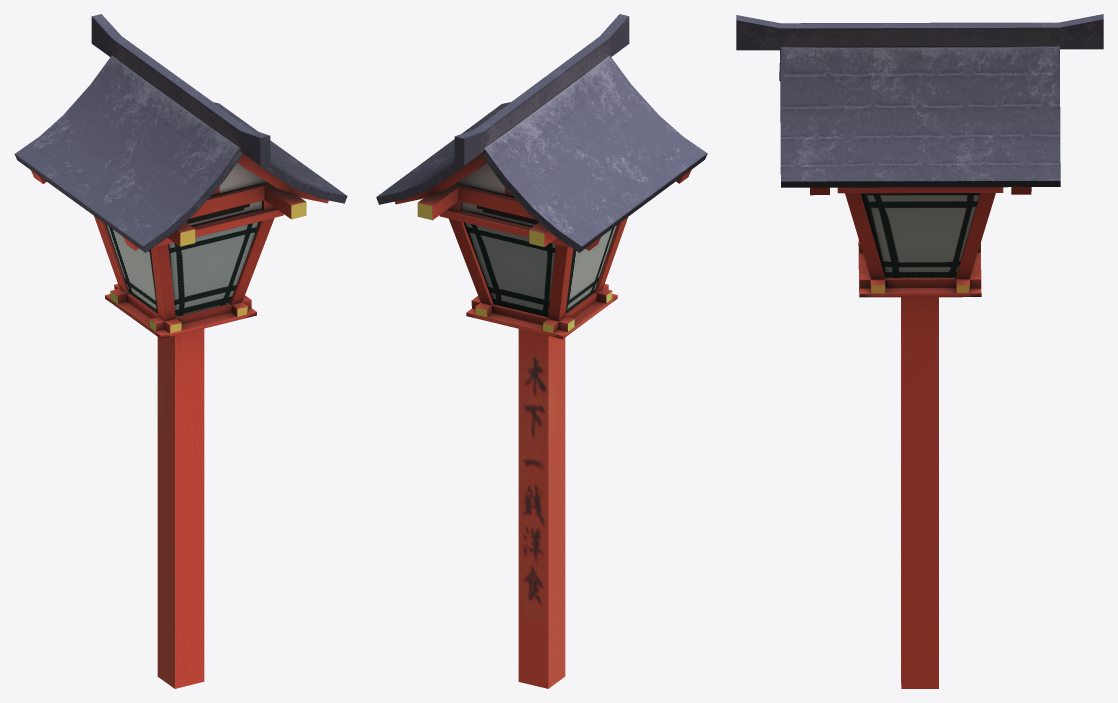
Rendered from NNJ0310024.fbx.
The picture shows the model from 3 angles, left to right: view 1: azimuth 30°, elevation 25°; view 2: azimuth 150°, elevation 25°; view 3: azimuth 270°, elevation 25°; orthographic projection. The views are drawn at different scales.
Parts seen in each view (by area): view 1: smNNJ0310024; view 2: smNNJ0310024; view 3: smNNJ0310024.
Boxes of the visible parts, <box> form: smNNJ0310024: <box>14,14,347,688</box>; smNNJ0310024: <box>376,14,707,688</box>; smNNJ0310024: <box>736,14,1103,688</box>.
Size of the model in its own units: 116 by 323 by 162.
Materials: 1 (1 with a texture image).
